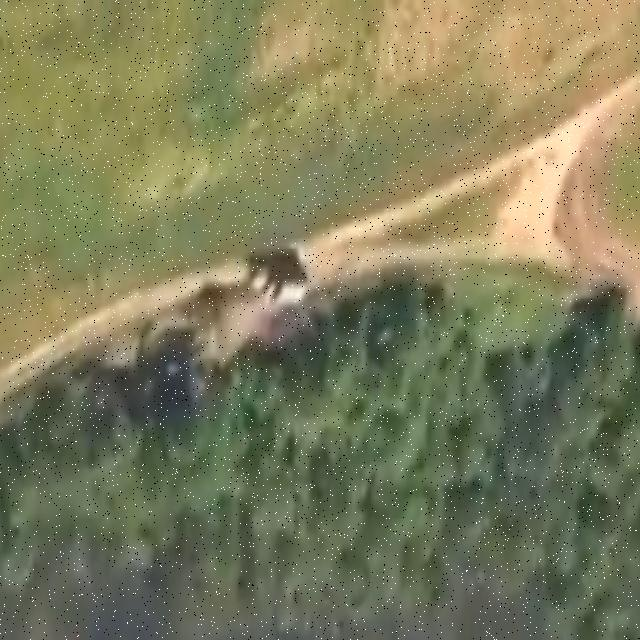TRUCK: (244, 249, 314, 311)
